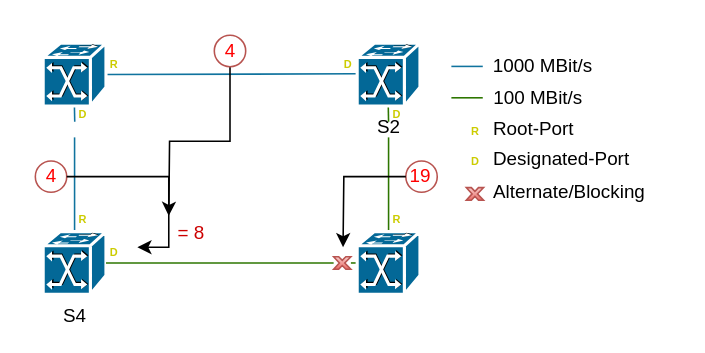
This 705x353 diagram has some shape labels left out. The centre of each missing label's shape, as x and y in pixels:
S1: (74,74)
S3: (388,262)
